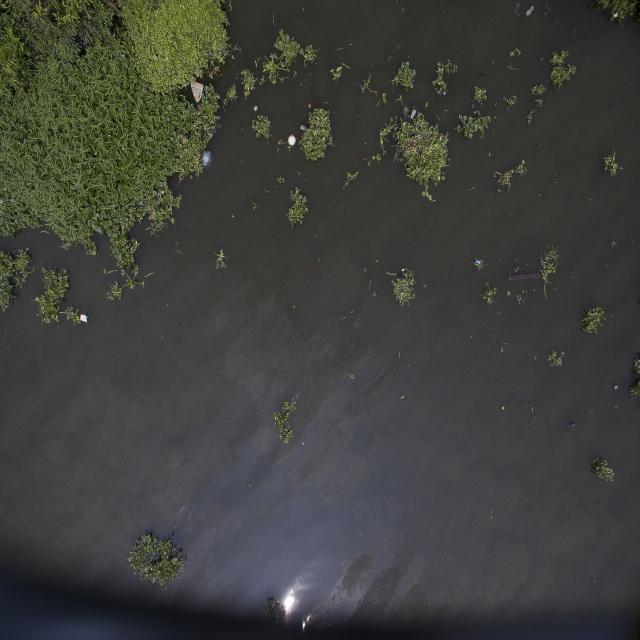debris: (190, 79, 205, 101), (78, 312, 89, 324), (288, 135, 296, 147), (300, 122, 307, 133), (252, 104, 259, 114), (479, 70, 484, 78)
plastic: (203, 152, 213, 168), (525, 6, 536, 18), (568, 419, 576, 428), (410, 108, 417, 118), (612, 11, 619, 21), (323, 98, 329, 106), (476, 258, 482, 266), (446, 156, 451, 163), (230, 166, 234, 172)
